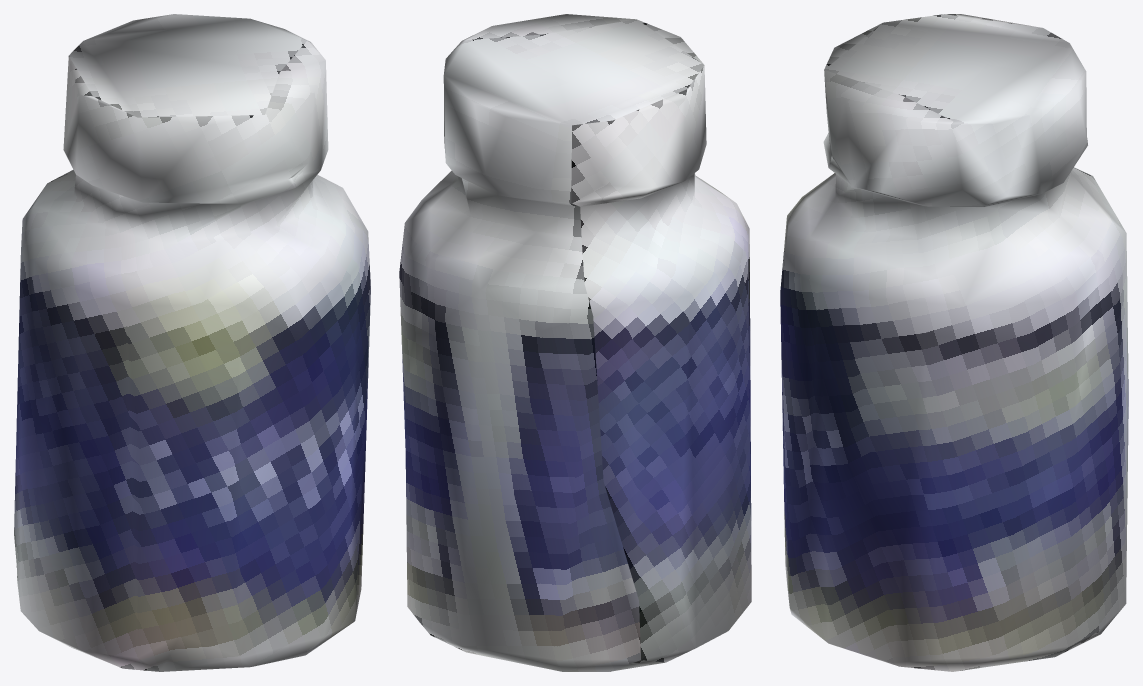
File: 5_HTP-low.glb
3 renders of one model, left to right at view 1: azimuth 30°, elevation 25°; view 2: azimuth 150°, elevation 25°; view 3: azimuth 270°, elevation 25°, orthographic.
Parts seen in each view (by area): view 1: 5_HTP; view 2: 5_HTP; view 3: 5_HTP.
Part boxes in pixels (bbox=[...]): 5_HTP: bbox=[14, 14, 370, 671]; 5_HTP: bbox=[399, 14, 751, 671]; 5_HTP: bbox=[780, 14, 1128, 671].
Bounding box in the file's own units: 0.0527 × 0.0885 × 0.0518.
Materials: 1 (1 with a texture image).
